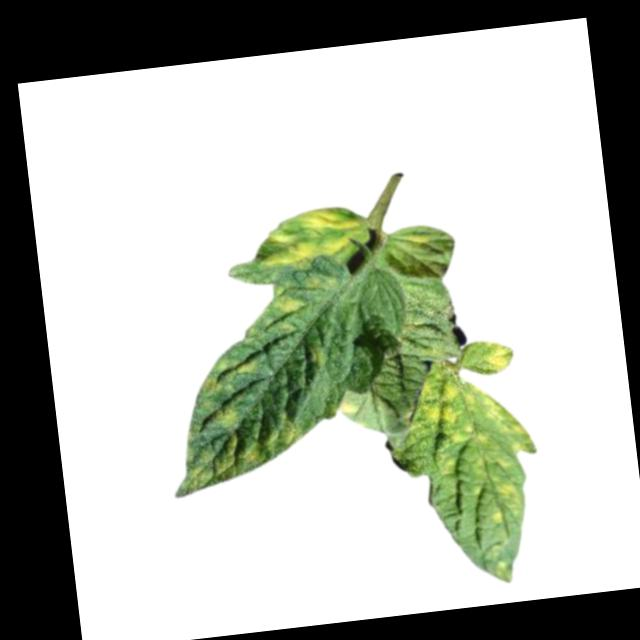Leaf_Mold: (402, 326, 550, 588), (165, 392, 311, 500), (259, 202, 379, 278), (195, 349, 264, 396), (265, 280, 310, 336)
